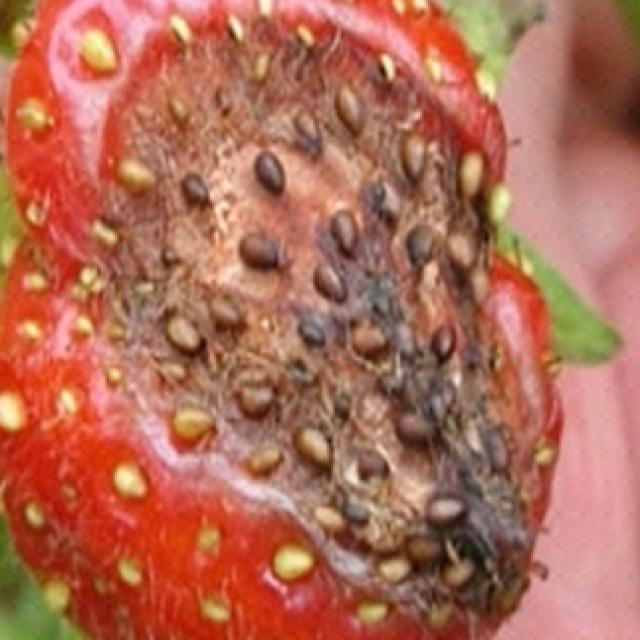Anthracnose Fruit Rot: (60, 0, 560, 640)
